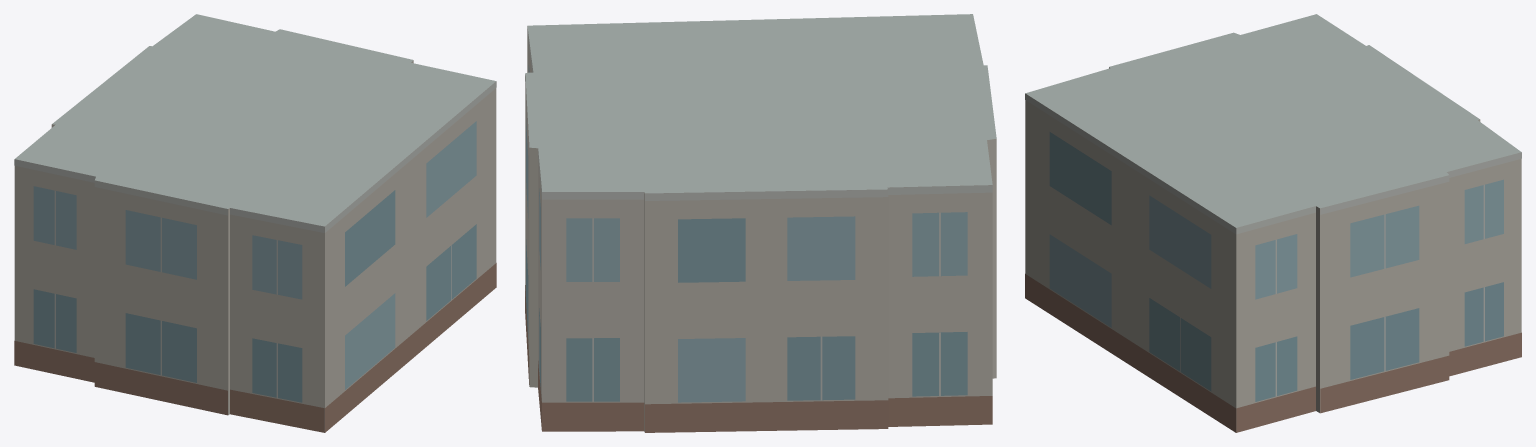
File: survey-upis-32961740.glb
3 views of the same model, side by side, from view 1: azimuth 30°, elevation 25°; view 2: azimuth 150°, elevation 25°; view 3: azimuth 270°, elevation 25° (orthographic). The views are drawn at different scales.
Visible parts, largest first — view 1: survey-upis-32961740.tmp; view 2: survey-upis-32961740.tmp; view 3: survey-upis-32961740.tmp.
Part boxes in pixels (x1,y1,x2,y2): survey-upis-32961740.tmp: (14,14,496,432); survey-upis-32961740.tmp: (525,14,996,432); survey-upis-32961740.tmp: (1025,14,1521,432).
Bounding box in the file's own units: 17.14 × 7.65 × 16.81.
